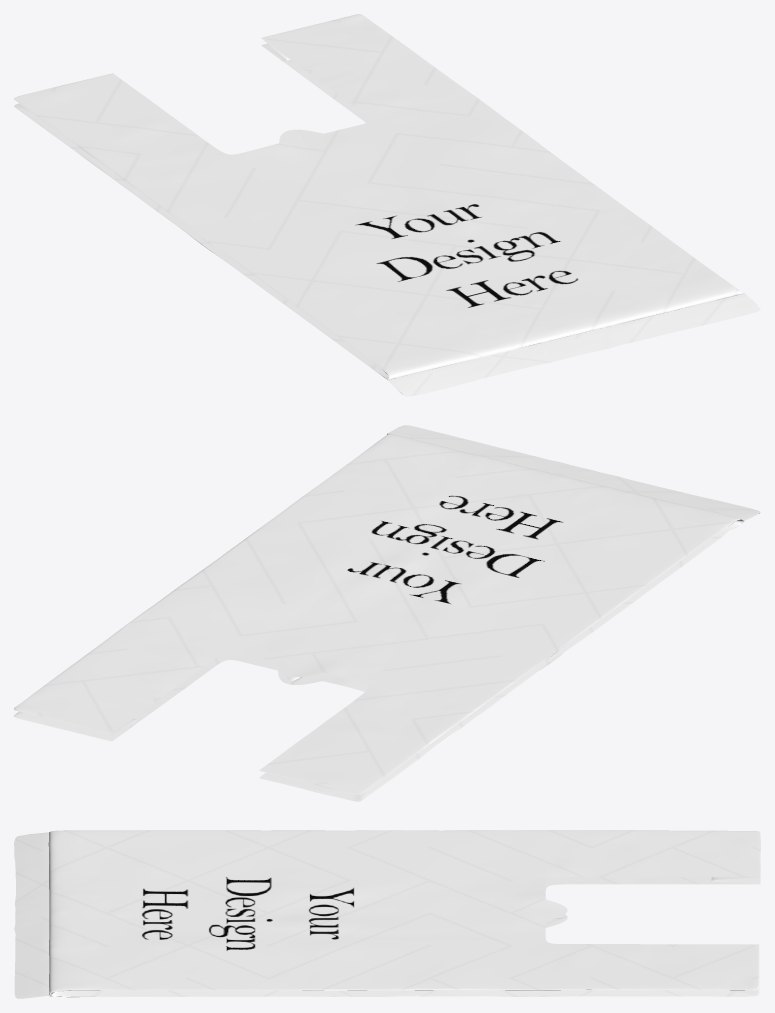
The model's file is Biodegradable bags.glb.
3 views of the same model, one above another, from view 1: azimuth 30°, elevation 25°; view 2: azimuth 150°, elevation 25°; view 3: azimuth 270°, elevation 25° (orthographic). The views are drawn at different scales.
Parts seen in each view (by area): view 1: Plane.002; view 2: Plane.002; view 3: Plane.002.
Part boxes in pixels (left/top/right/bottom): Plane.002: left=14, top=14, right=760, bottom=396; Plane.002: left=14, top=425, right=760, bottom=801; Plane.002: left=14, top=830, right=760, bottom=998.
Size of the model in its own units: 1.83 by 0.0515 by 3.52.
1 material, 1 textured.
